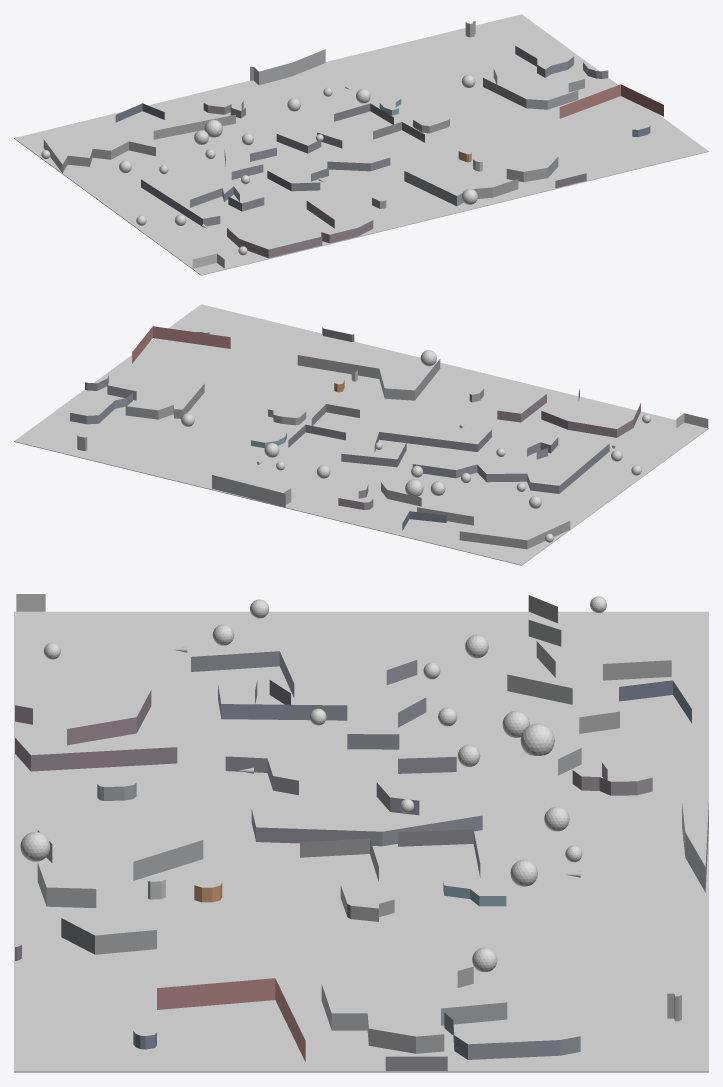
File: scene_8fda64d4-89fb-40f5-96e2-9a937443c5f5.glb
3 views of the same model, one above another, from view 1: azimuth 30°, elevation 25°; view 2: azimuth 150°, elevation 25°; view 3: azimuth 270°, elevation 25° (orthographic). The views are drawn at different scales.
Visible parts, largest first — view 1: Ground_Base, BLD-013, BLD-020, BLD-015, BLD-007, BLD-006, BLD-009, BLD-017, BLD-023, BLD-018, BLD-014, BLD-010 (+1 smaller); view 2: Ground_Base, BLD-013, BLD-020, BLD-007, BLD-015, BLD-006, BLD-009, BLD-023, BLD-017, BLD-018, BLD-014, BLD-010; view 3: Ground_Base, BLD-013, BLD-020, BLD-007, BLD-006, BLD-015, BLD-017, BLD-009, BLD-018, BLD-010, BLD-014, BLD-019 (+5 smaller).
Boxes of the visible parts, box(x1,y1,x2,y2) form: Ground_Base: box(14, 14, 708, 275); BLD-013: box(141, 147, 276, 226); BLD-020: box(43, 114, 235, 173); BLD-015: box(267, 132, 390, 191); BLD-007: box(404, 157, 558, 206); BLD-006: box(227, 201, 373, 258); BLD-009: box(559, 84, 663, 118); BLD-017: box(483, 69, 584, 109); BLD-023: box(250, 49, 325, 85); BLD-018: box(515, 46, 573, 77); BLD-014: box(334, 103, 393, 124); BLD-010: box(373, 122, 424, 142); Ground_Base: box(14, 304, 708, 565); BLD-013: box(412, 437, 609, 493); BLD-020: box(381, 482, 570, 549); BLD-007: box(297, 355, 440, 400); BLD-015: box(341, 429, 491, 467); BLD-006: box(497, 388, 640, 437); BLD-009: box(132, 326, 230, 363); BLD-023: box(212, 475, 291, 507); BLD-017: box(107, 383, 204, 419); BLD-018: box(70, 392, 132, 424); BLD-014: box(288, 424, 345, 447); BLD-010: box(311, 404, 359, 425); Ground_Base: box(14, 611, 708, 1072); BLD-013: box(191, 651, 456, 773); BLD-020: box(507, 595, 671, 775); BLD-007: box(37, 830, 203, 954); BLD-006: box(15, 690, 177, 771); BLD-015: box(225, 756, 482, 846); BLD-017: box(321, 966, 507, 1053); BLD-009: box(157, 978, 305, 1061); BLD-018: box(444, 1013, 580, 1059); BLD-010: box(300, 838, 378, 881); BLD-014: box(398, 829, 480, 877); BLD-019: box(572, 763, 652, 795).
Bounding box in the file's own units: 340 × 11.15 × 216.
